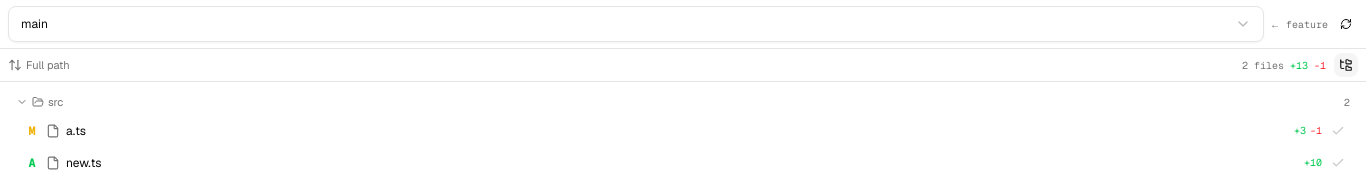
Test case: GitBranchComparePanel › cycles the sort order like the git page
Click the button with test id "compare-sort-toggle" at (39, 65), box left=8, top=57, right=70, bottom=73
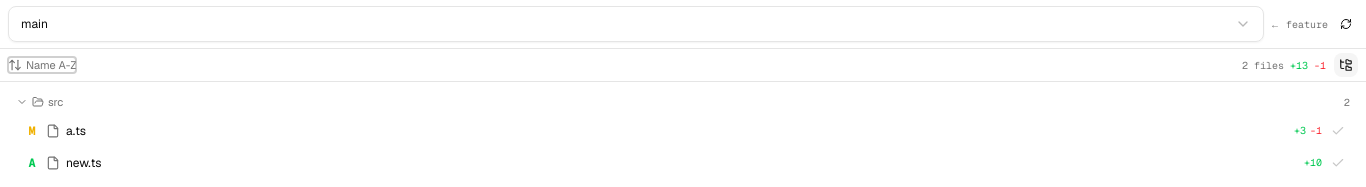
Expected: the button with test id "compare-sort-toggle" reads "Name A-Z"
Click the button with test id "compare-sort-toggle" at (42, 65), box left=8, top=57, right=76, bottom=73
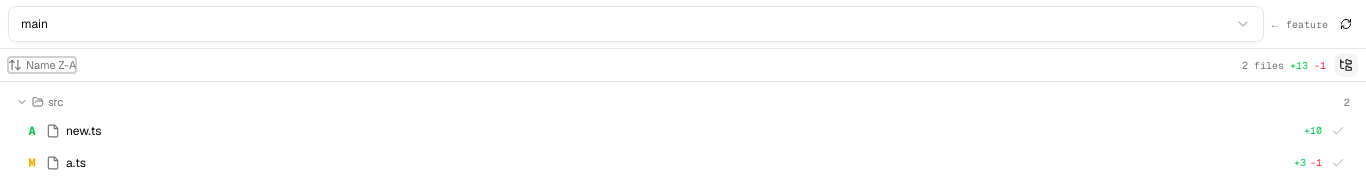
Expected: the button with test id "compare-sort-toggle" reads "Name Z-A"
Click the button with test id "compare-sort-toggle" at (42, 65), box left=8, top=57, right=76, bottom=73
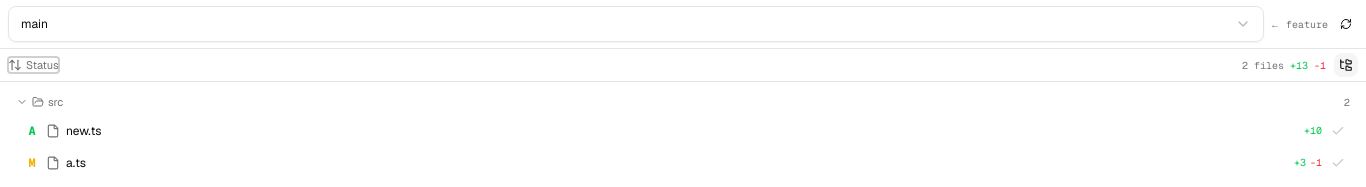
Expected: the button with test id "compare-sort-toggle" reads "Status", left=8, top=57, right=59, bottom=73
